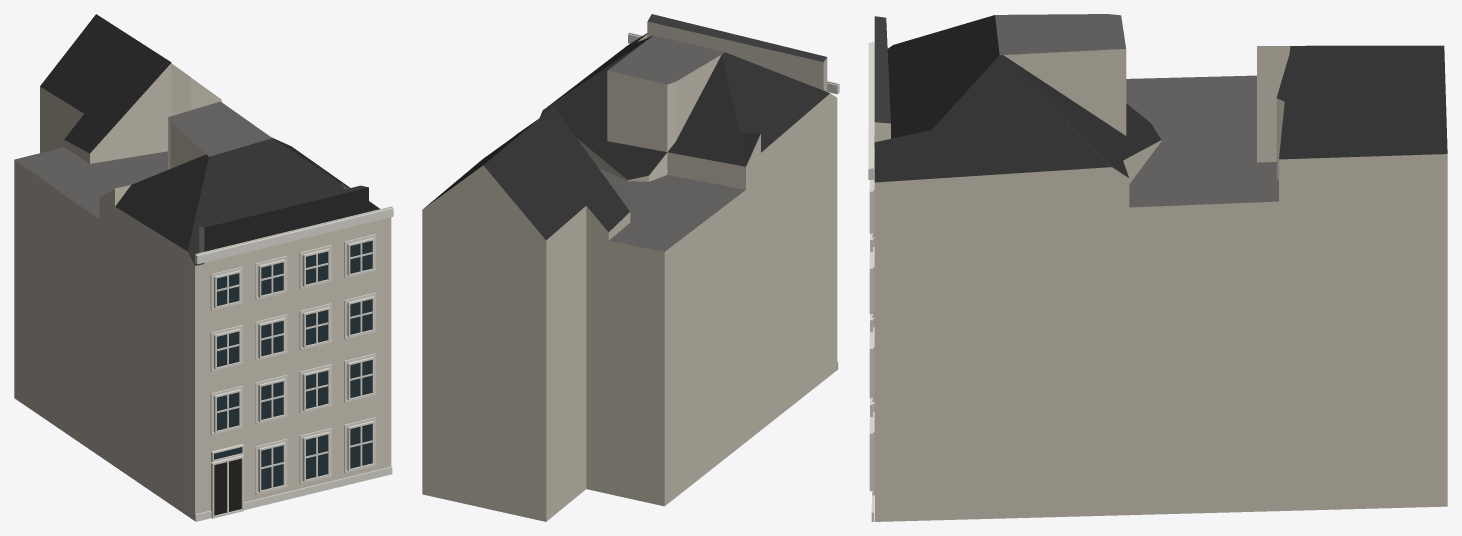
3 renders of one model, left to right at view 1: azimuth 30°, elevation 25°; view 2: azimuth 150°, elevation 25°; view 3: azimuth 270°, elevation 25°, orthographic. The views are drawn at different scales.
Visible parts, largest first — view 1: spec-0363100012177858; view 2: spec-0363100012177858; view 3: spec-0363100012177858.
Boxes of the visible parts, x1,y1,x2,y2 form: spec-0363100012177858: (14, 14, 393, 521); spec-0363100012177858: (422, 14, 839, 521); spec-0363100012177858: (868, 14, 1447, 521).
Size of the model in its own units: 9.12 by 13.69 by 16.81.
